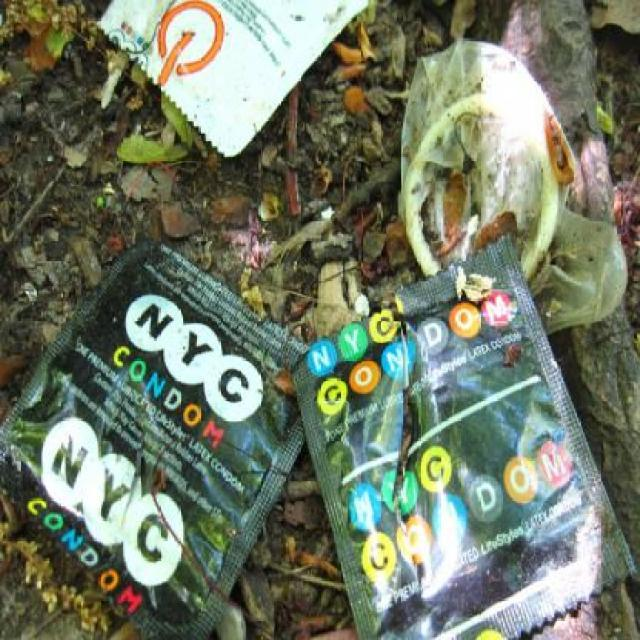garbage: (293, 333, 600, 599), (59, 245, 266, 598), (406, 65, 628, 322), (148, 0, 257, 168)
